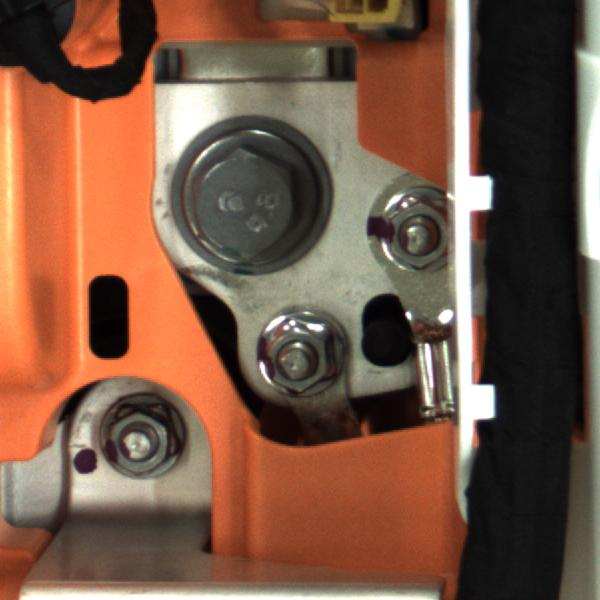nut_b: (163, 131, 342, 273)
screw_s: (247, 312, 378, 399), (87, 395, 202, 485), (368, 194, 455, 287)
